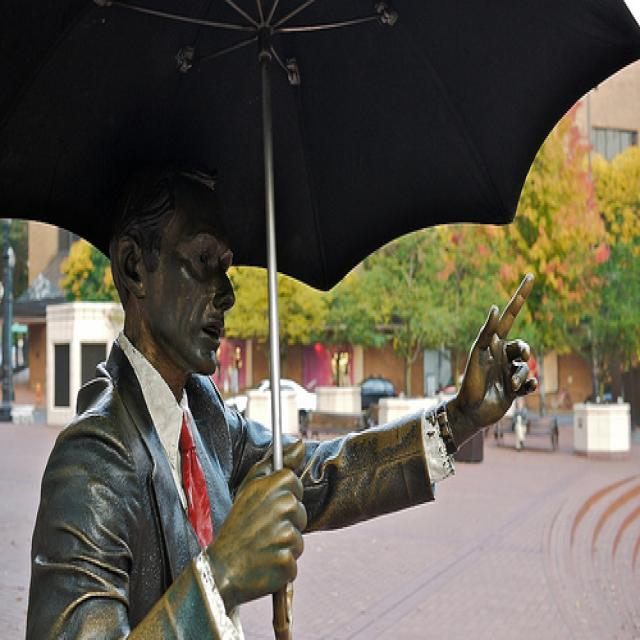Vehicle: (226, 378, 316, 440), (356, 376, 400, 410)
